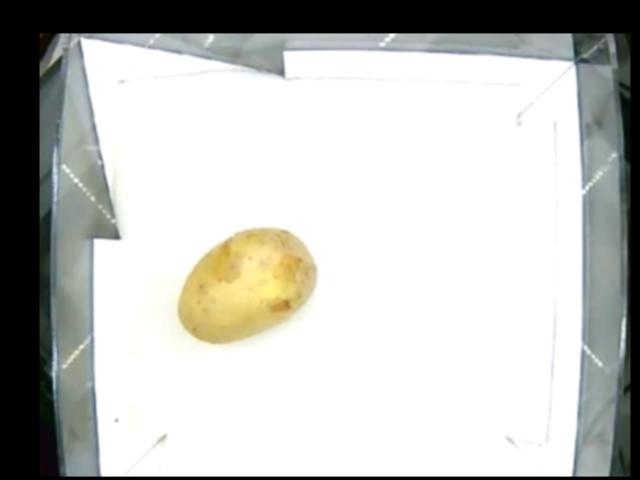Potato: (176, 229, 317, 346)
